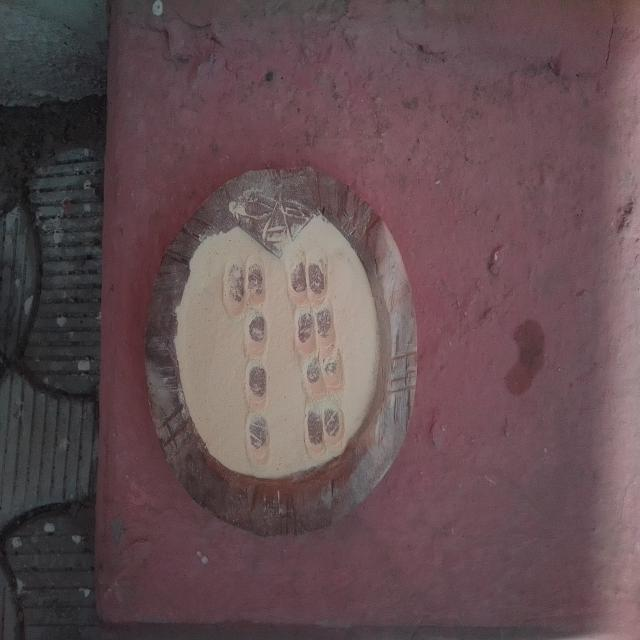double: (218, 252, 270, 313), (302, 399, 347, 458), (284, 249, 330, 304), (292, 306, 340, 356), (300, 348, 346, 398)
single: (243, 412, 276, 468), (241, 310, 276, 358), (242, 359, 272, 412)
